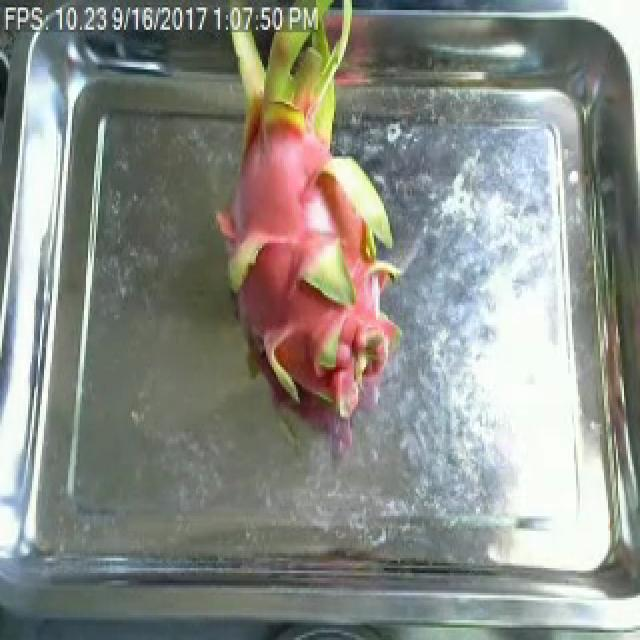fruit: (198, 8, 424, 434)
